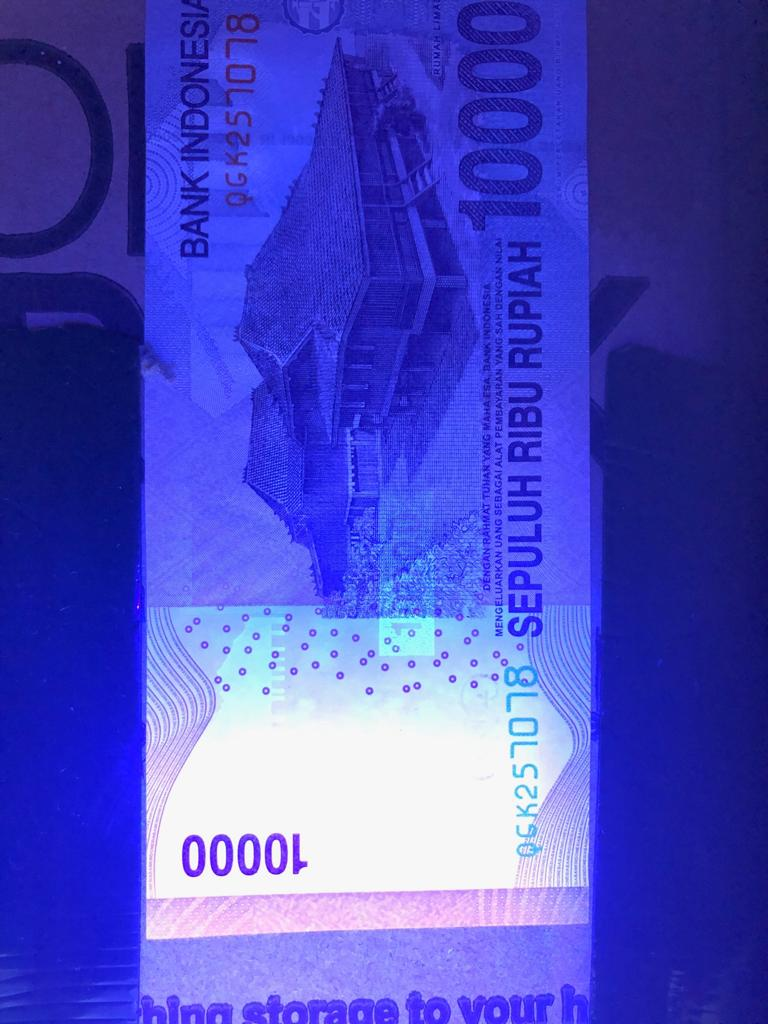10_RIBU_ASLI: (376, 483, 439, 662)
